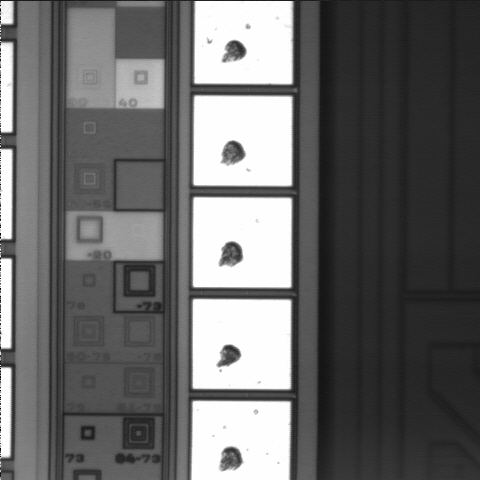pad: (193, 197, 292, 288), (194, 96, 292, 186), (193, 299, 291, 389)
